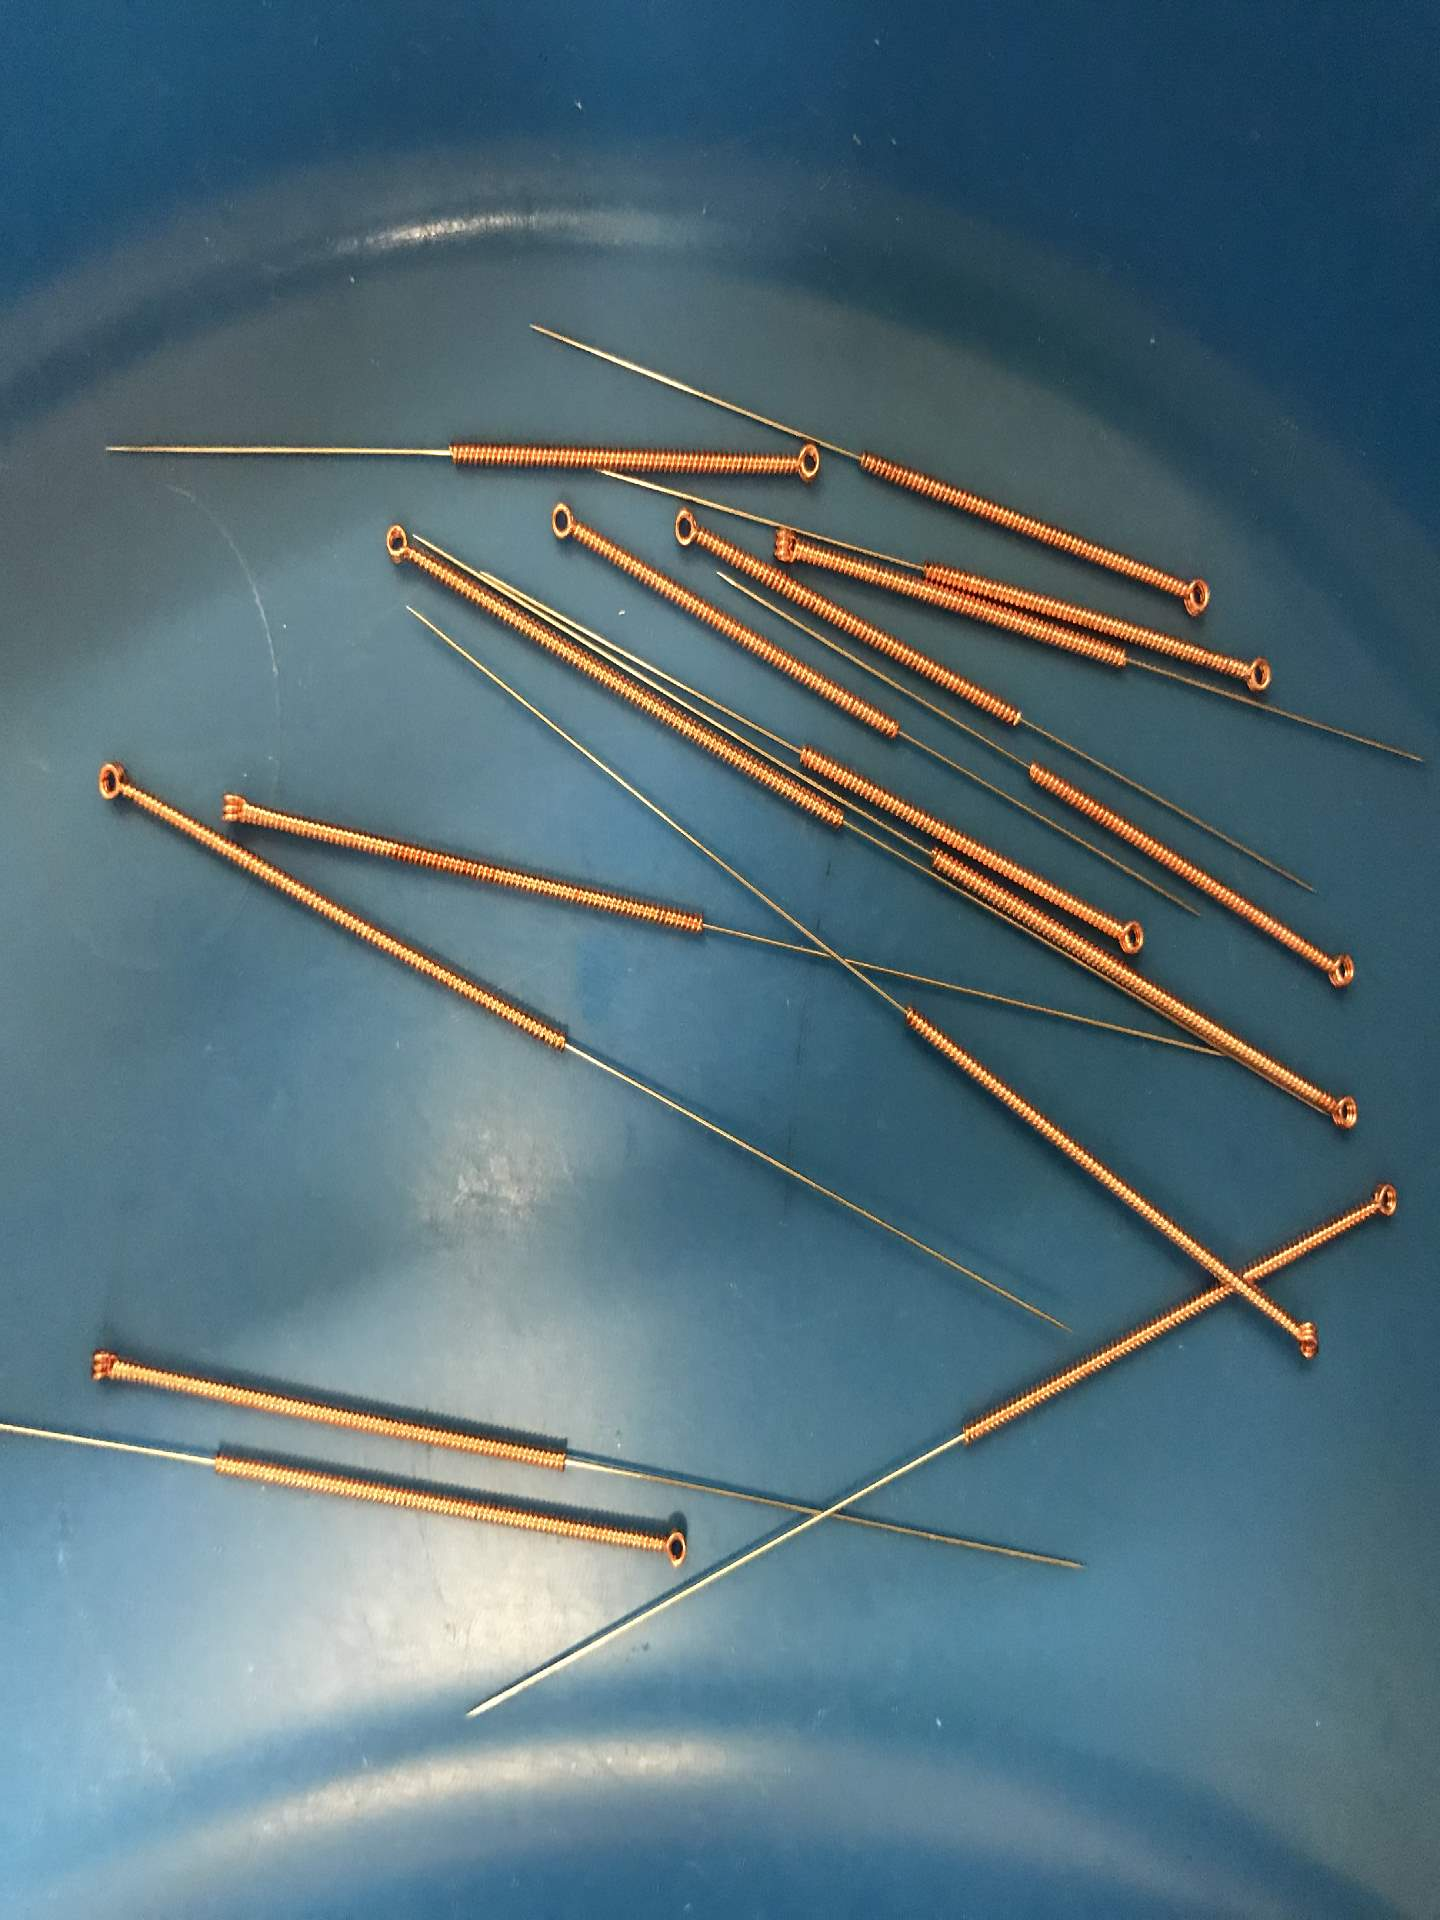needle: (74, 751, 151, 813), (1268, 1306, 1336, 1374), (1302, 936, 1370, 999), (653, 499, 722, 562), (1352, 1166, 1411, 1237), (531, 493, 597, 553), (368, 514, 434, 574), (209, 779, 272, 838), (641, 1513, 700, 1575), (1308, 1081, 1370, 1140), (1162, 568, 1225, 624), (76, 1339, 132, 1398), (1227, 646, 1283, 705), (767, 440, 827, 491), (762, 522, 824, 570), (1104, 909, 1156, 965)
